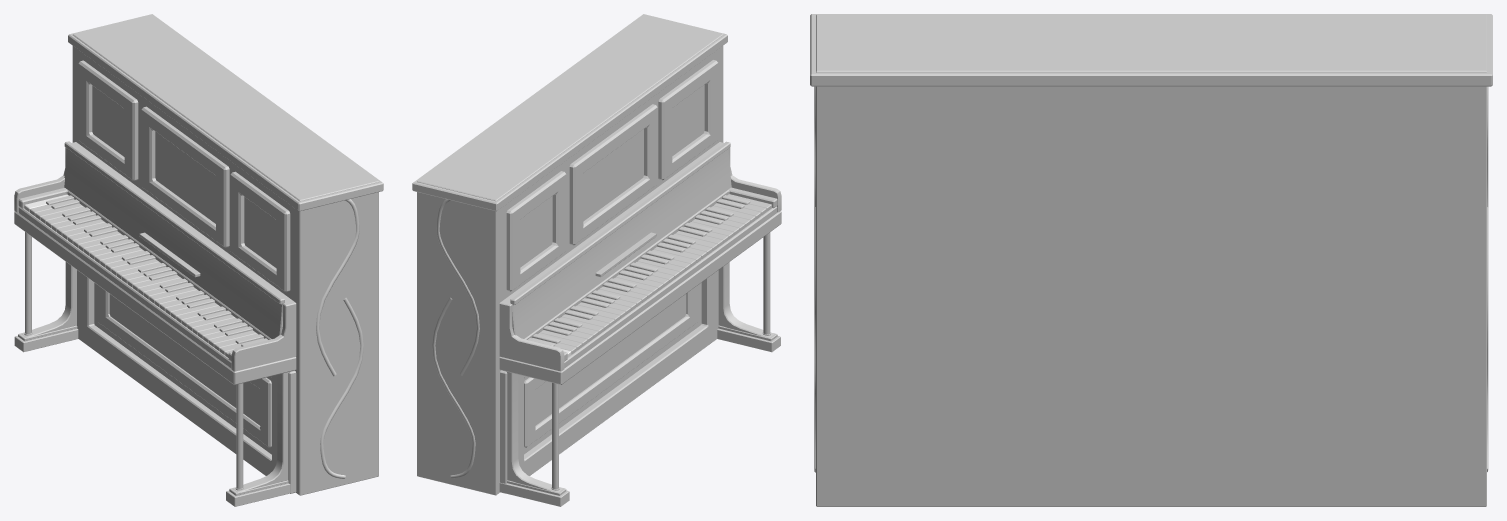
File: piano.fbx
3 renders of one model, left to right at view 1: azimuth 30°, elevation 25°; view 2: azimuth 150°, elevation 25°; view 3: azimuth 270°, elevation 25°, orthographic. The views are drawn at different scales.
Parts seen in each view (by area): view 1: Box249, Box329, Box320, Box327, Box250, Box319, Box252, Box328, Box326, Box325, Box251, Box323 (+9 smaller); view 2: Box249, Box329, Box320, Box327, Box250, Box319, Box252, Box326, Box328, Box325, Box251, Box324 (+9 smaller); view 3: Box249, Box319.
Boxes of the visible parts, left/top/right/bottom form: Box249: left=72, top=15, right=378, bottom=495; Box329: left=64, top=141, right=284, bottom=338; Box320: left=77, top=270, right=296, bottom=493; Box327: left=141, top=106, right=229, bottom=247; Box250: left=14, top=211, right=296, bottom=384; Box319: left=68, top=14, right=383, bottom=211; Box252: left=14, top=142, right=296, bottom=371; Box328: left=230, top=171, right=290, bottom=292; Box326: left=78, top=60, right=138, bottom=180; Box325: left=97, top=285, right=271, bottom=447; Box251: left=18, top=206, right=231, bottom=368; Box323: left=233, top=372, right=288, bottom=492; Box249: left=417, top=15, right=723, bottom=495; Box329: left=510, top=141, right=731, bottom=338; Box320: left=500, top=270, right=718, bottom=493; Box327: left=569, top=104, right=657, bottom=245; Box250: left=499, top=211, right=781, bottom=384; Box319: left=412, top=14, right=727, bottom=211; Box252: left=499, top=142, right=781, bottom=371; Box326: left=506, top=171, right=566, bottom=291; Box328: left=658, top=60, right=718, bottom=180; Box325: left=524, top=285, right=697, bottom=447; Box251: left=564, top=206, right=777, bottom=368; Box324: left=506, top=371, right=562, bottom=492; Box249: left=816, top=14, right=1486, bottom=506; Box319: left=810, top=14, right=1492, bottom=86.
Bounding box in the file's own units: 39.71 × 77.64 × 110.
1 material, 1 textured.
